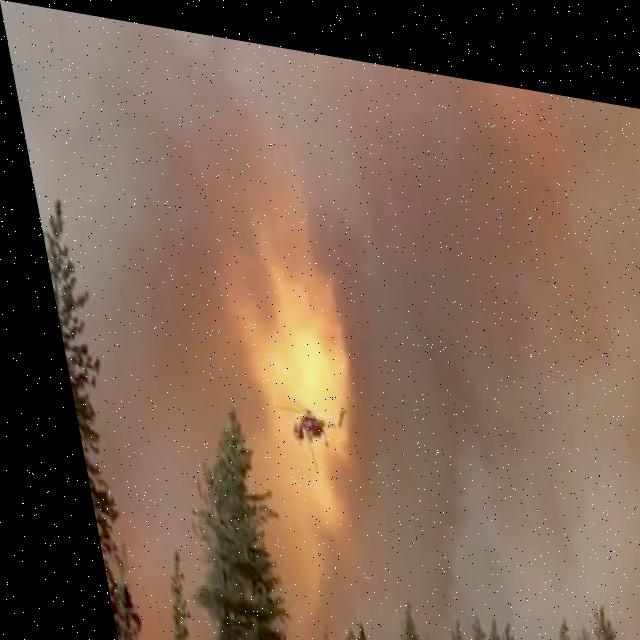Fire: (202, 166, 366, 528)
